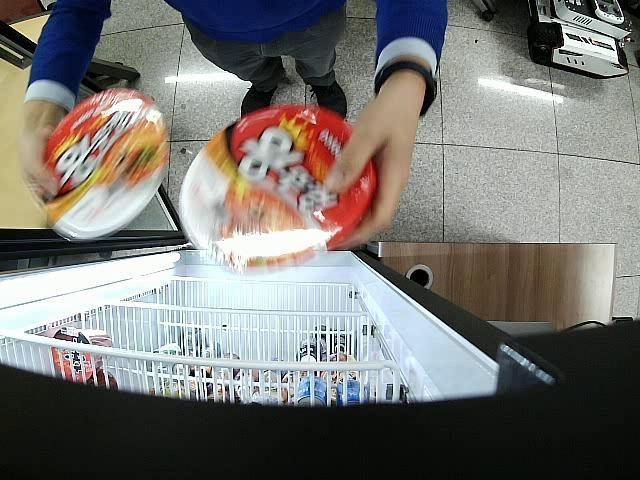10_wangTtukkeong: (179, 103, 377, 276), (42, 88, 170, 242)
